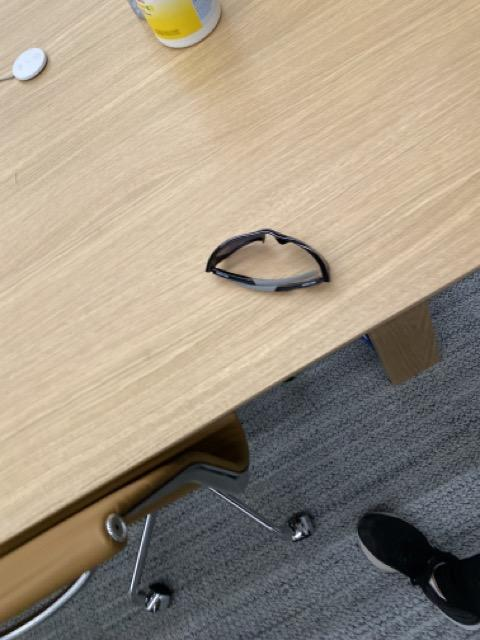Sunglasses: (205, 227, 332, 296)
